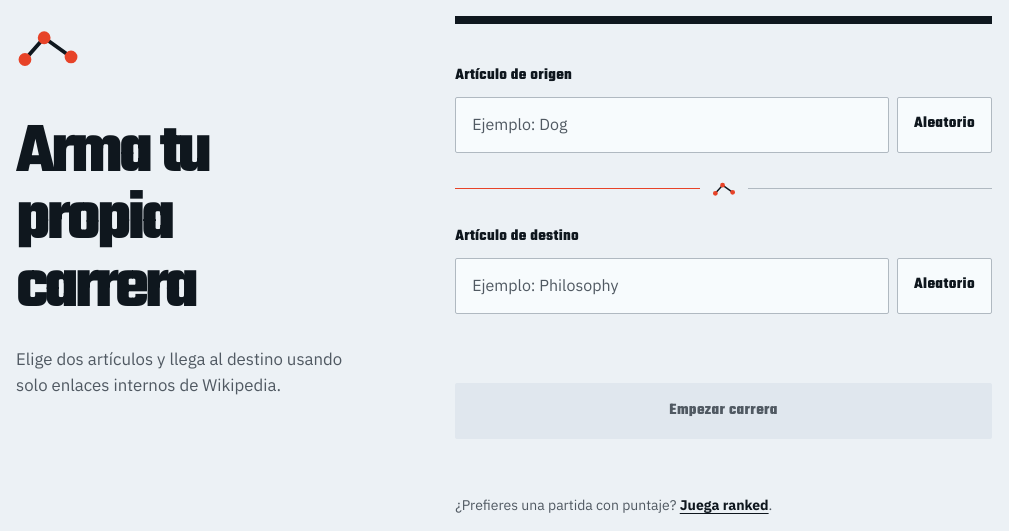
Test: PlayPage › rechaza una carrera con el mismo origen y destino
Type "Dog" into the field labelled "Artículo de origen" at (672, 125), box [455,97,889,153]
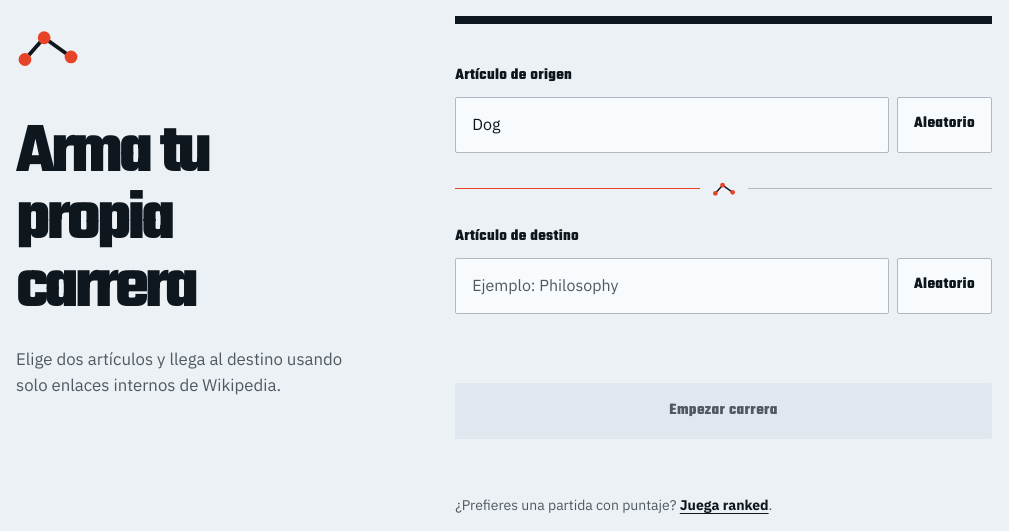
Type "Dog" into the field labelled "Artículo de destino" at (672, 286), box [455,258,889,314]
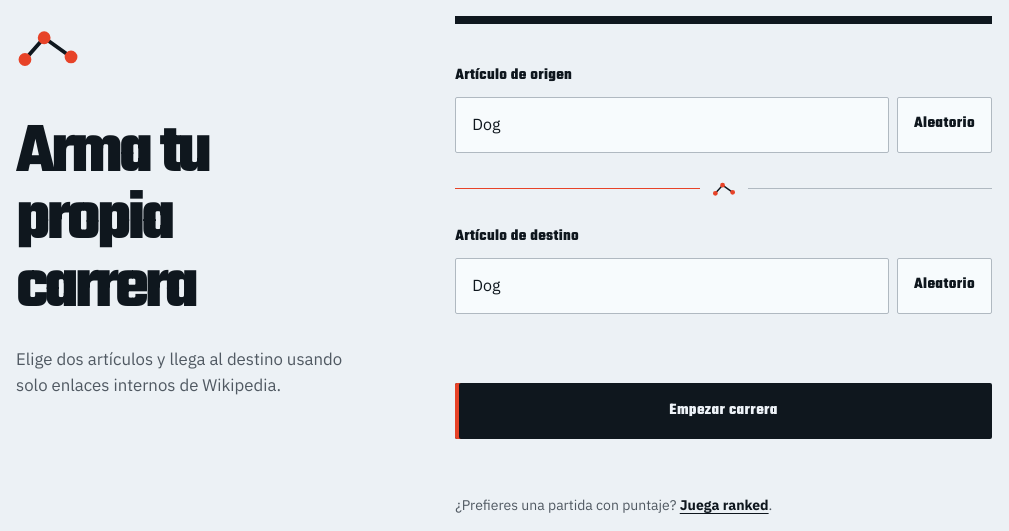
Click the button "Empezar carrera" at (724, 411), box [455,383,992,439]
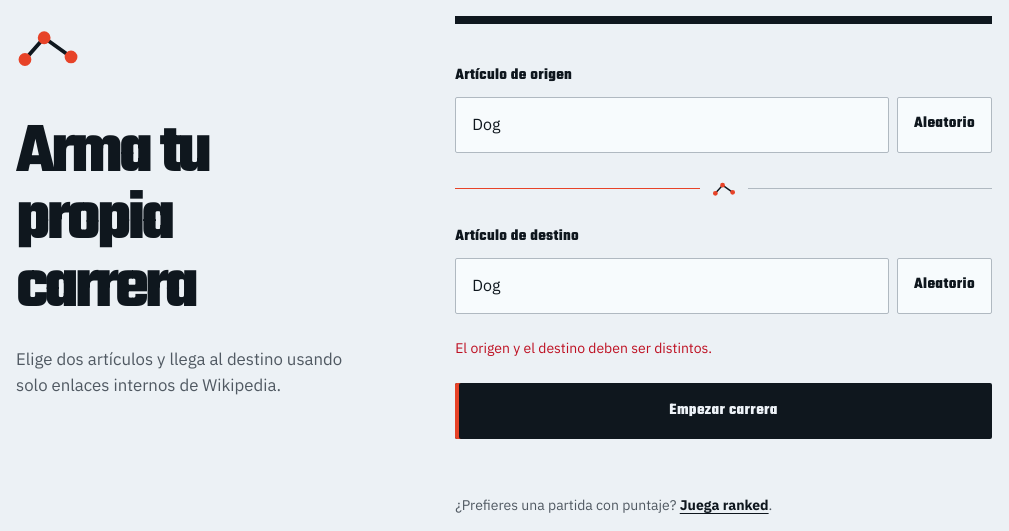
Now the message reads "El origen y el destino deben ser distintos.", box [455,339,712,357]
